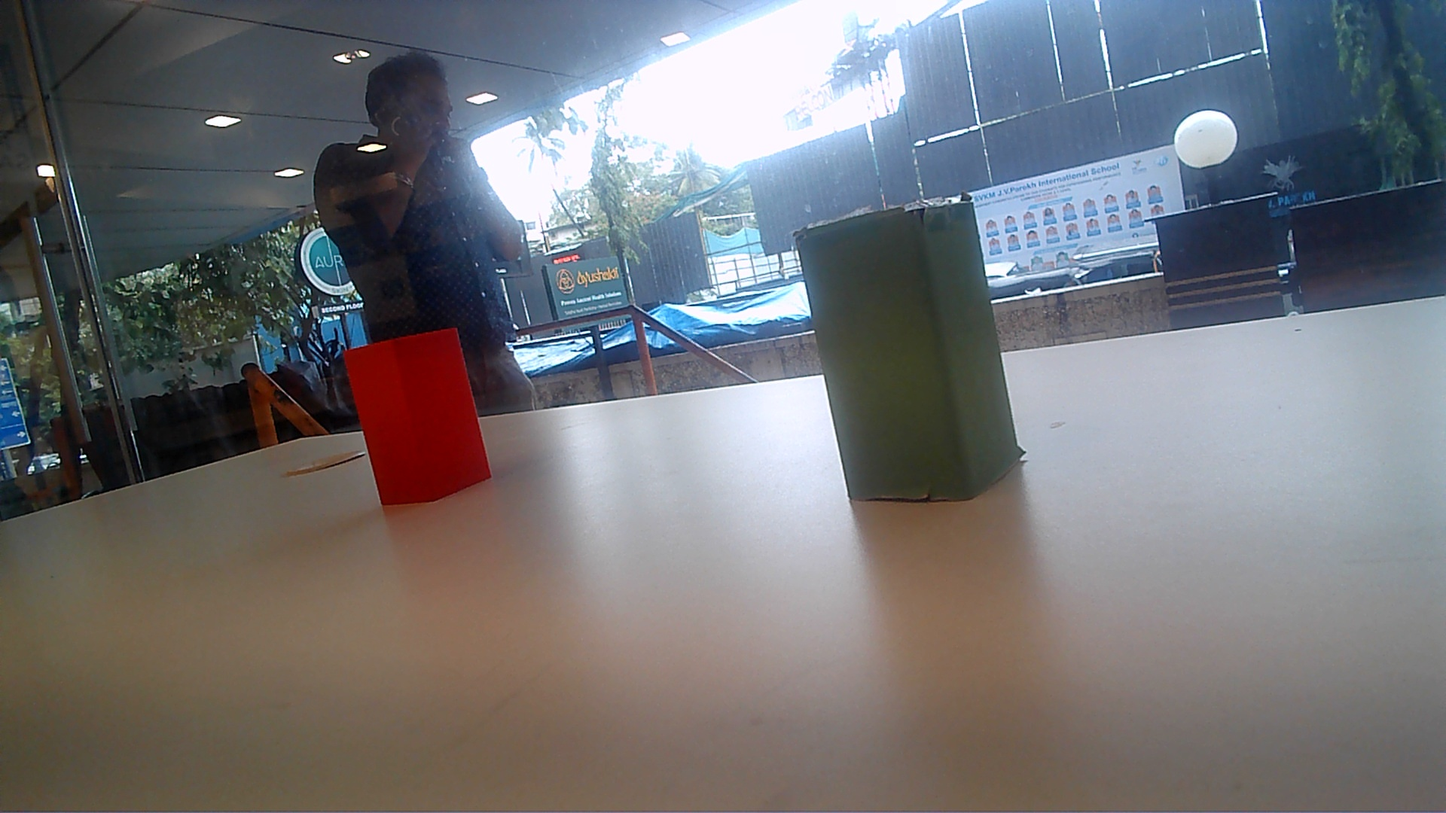green: (794, 196, 1013, 506)
